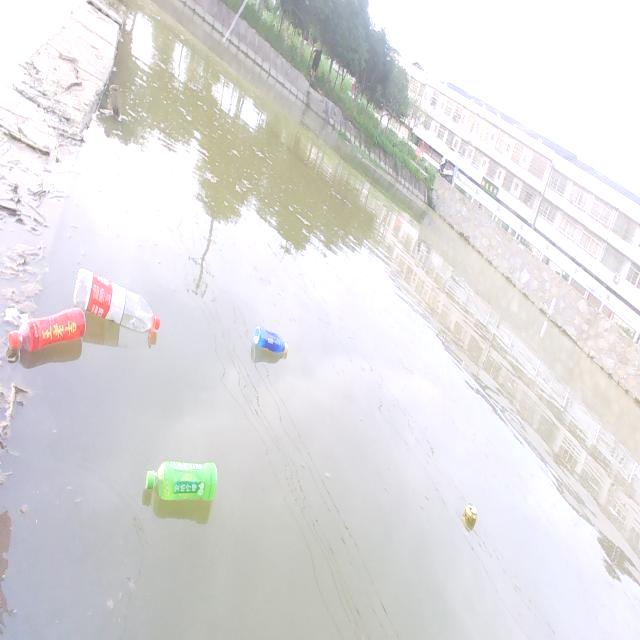bottle: (70, 250, 180, 351), (0, 294, 94, 366), (134, 452, 230, 514), (242, 308, 295, 368)
